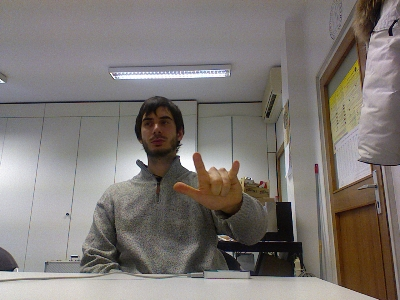我爱你: (171, 152, 243, 211)
